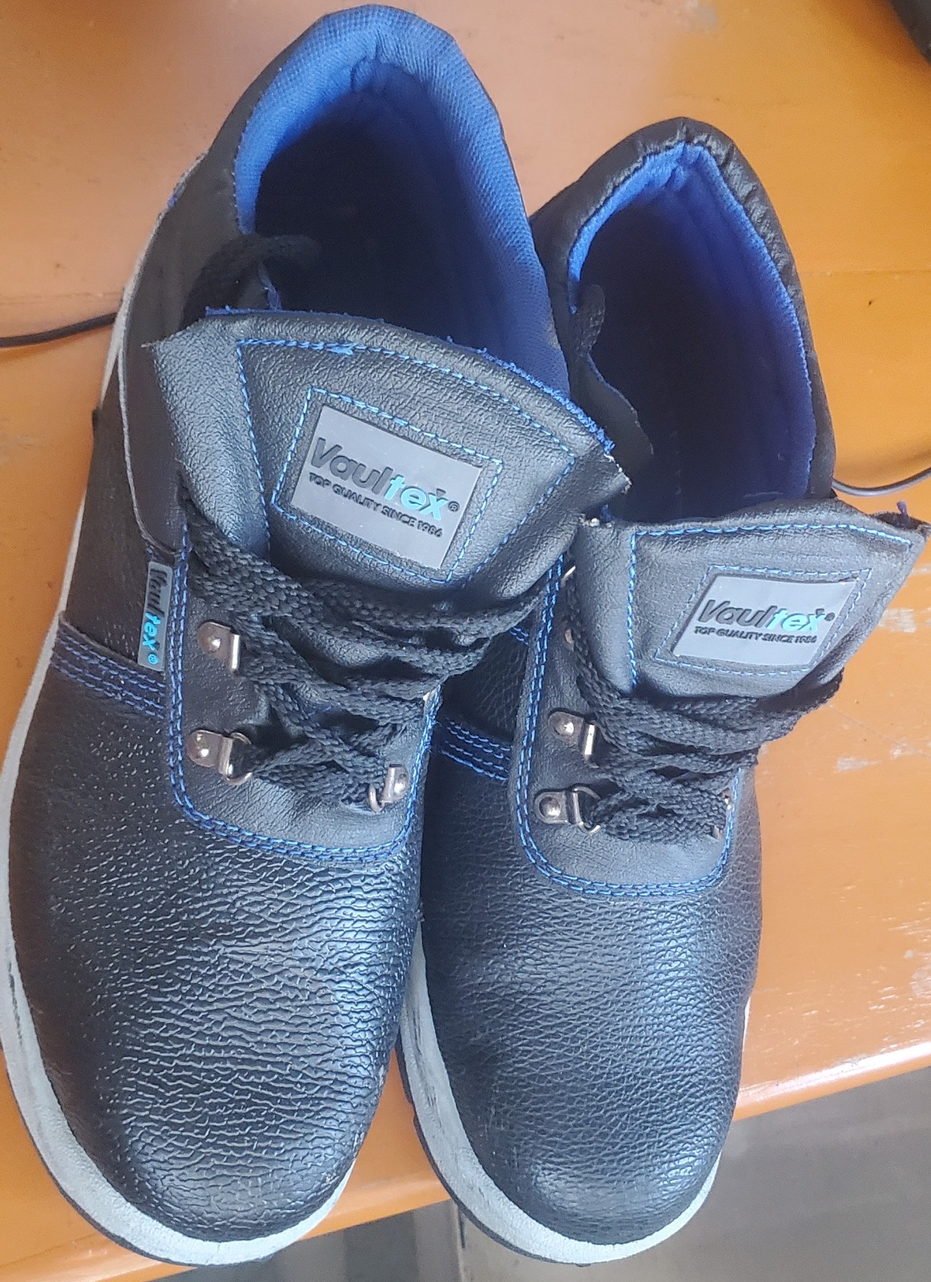safetyboot: (16, 11, 931, 1274)
